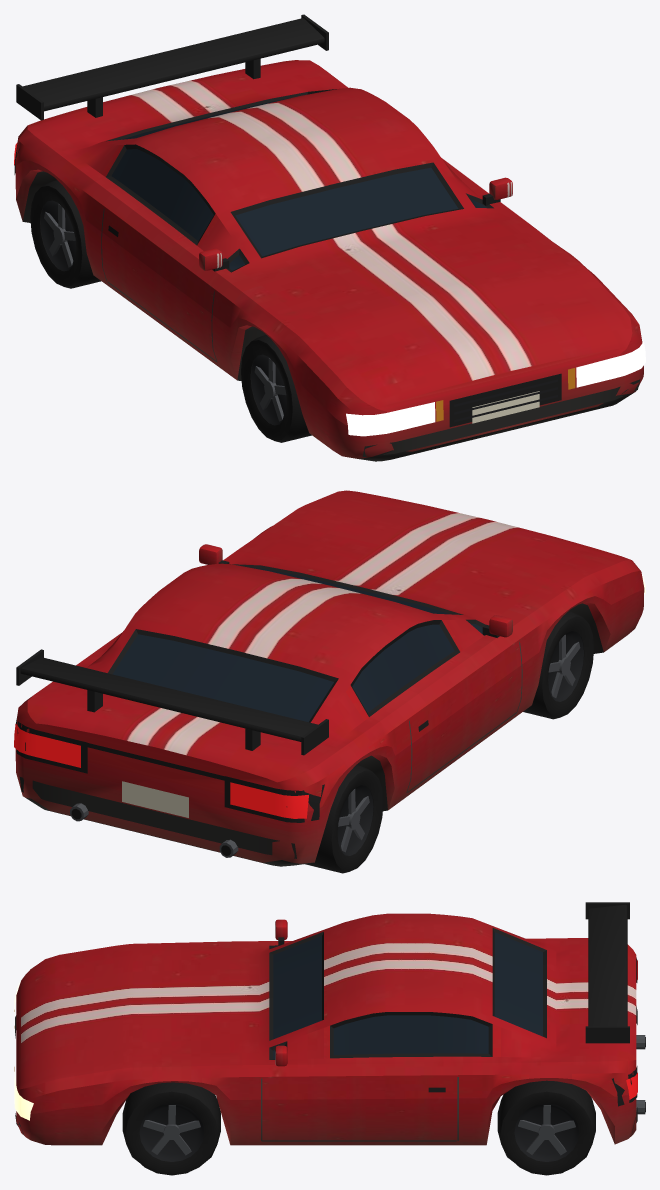
The model's file is race.glb.
3 renders of one model, top to bottom at view 1: azimuth 30°, elevation 25°; view 2: azimuth 150°, elevation 25°; view 3: azimuth 270°, elevation 25°, orthographic. The views are drawn at different scales.
Visible parts, largest first — view 1: body, wheel-front-right, wheel-back-right, wheel-back-right.1, wheel-front-right.1; view 2: body, wheel-back-right, wheel-front-right, wheel-back-right.1, wheel-front-right.1; view 3: body, wheel-back-left, wheel-front-left, wheel-front-left.1, wheel-back-left.1.
Part boxes in pixels (x1,y1,x2,y2): body: (14, 14, 645, 461); wheel-front-right: (241, 335, 311, 442); wheel-back-right: (30, 180, 101, 288); wheel-back-right.1: (40, 200, 76, 271); wheel-front-right.1: (251, 354, 286, 425); body: (14, 490, 645, 866); wheel-back-right: (304, 765, 383, 873); wheel-front-right: (523, 611, 593, 719); wheel-back-right.1: (337, 785, 373, 855); wheel-front-right.1: (548, 631, 583, 701); body: (14, 902, 645, 1145); wheel-back-left: (497, 1080, 595, 1175); wheel-front-left: (122, 1082, 220, 1175); wheel-front-left.1: (139, 1103, 204, 1161); wheel-back-left.1: (514, 1103, 579, 1161).
Size of the model in its own units: 1.29 by 0.6957 by 2.56.
Materials: 12 (1 with a texture image).
